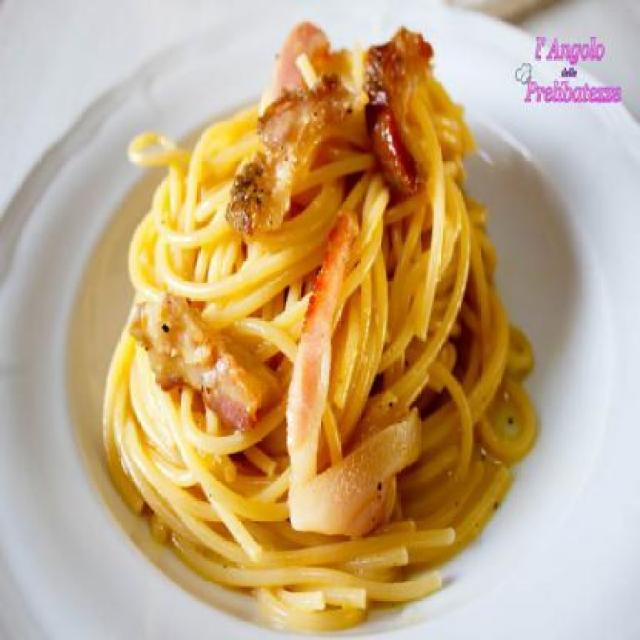Pasta with carbonara sauce: (74, 16, 568, 612)
